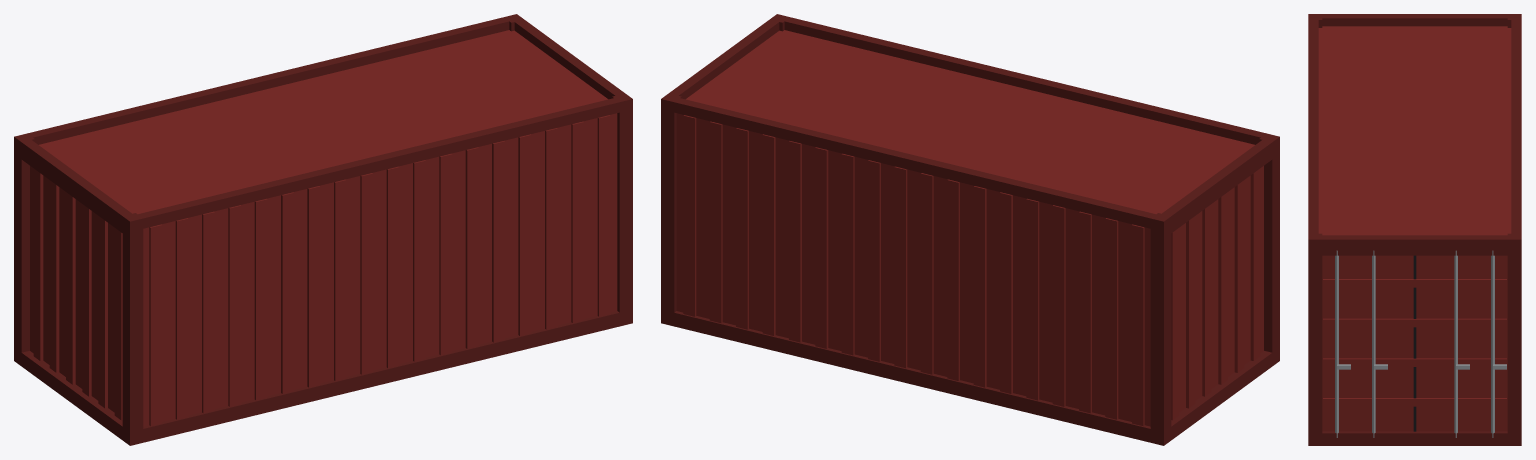
File: conteneur.glb
3 views of the same model, side by side, from view 1: azimuth 30°, elevation 25°; view 2: azimuth 150°, elevation 25°; view 3: azimuth 270°, elevation 25° (orthographic). The views are drawn at different scales.
Parts seen in each view (by area): view 1: box, ribs_l, rails_top, posts, ribs_back, rails_low, ends_top, ends_low; view 2: box, ribs_r, rails_top, posts, ribs_back, rails_low, ends_top, ends_low; view 3: box, doors, posts, ends_top, door_ribs, rails_top, bars, ends_low, door_gap, handles.
Boxes of the visible parts, left/top/right/bottom form: box: left=30, top=30, right=617, bottom=426; ribs_l: left=149, top=115, right=610, bottom=426; rails_top: left=27, top=17, right=619, bottom=228; posts: left=14, top=14, right=632, bottom=445; ribs_back: left=33, top=168, right=122, bottom=420; rails_low: left=142, top=311, right=619, bottom=442; ends_top: left=21, top=19, right=624, bottom=232; ends_low: left=21, top=351, right=122, bottom=439; box: left=676, top=30, right=1263, bottom=426; ribs_r: left=683, top=115, right=1144, bottom=426; rails_top: left=674, top=17, right=1266, bottom=228; posts: left=661, top=14, right=1279, bottom=445; ribs_back: left=1171, top=168, right=1260, bottom=420; rails_low: left=674, top=311, right=1151, bottom=442; ends_top: left=669, top=19, right=1272, bottom=233; ends_low: left=1171, top=351, right=1272, bottom=440; box: left=1318, top=26, right=1511, bottom=235; doors: left=1322, top=255, right=1507, bottom=431; posts: left=1308, top=14, right=1521, bottom=445; ends_top: left=1321, top=14, right=1508, bottom=255; door_ribs: left=1323, top=279, right=1506, bottom=406; rails_top: left=1308, top=20, right=1521, bottom=233; bars: left=1335, top=250, right=1494, bottom=437; ends_low: left=1321, top=431, right=1508, bottom=445; door_gap: left=1413, top=255, right=1416, bottom=431; handles: left=1337, top=364, right=1506, bottom=369.
Size of the model in its own units: 6.13 by 2.6 by 2.44.
Materials: 4 (4 with a texture image).
